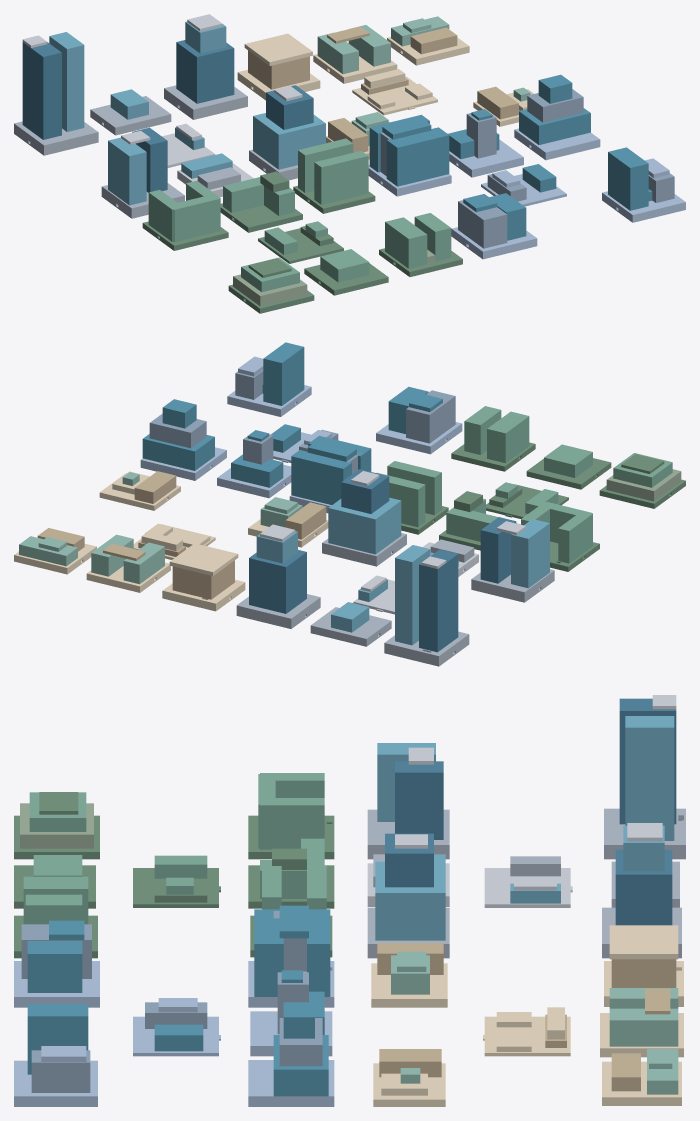
File: g4c7_review.obj
3 views of the same model, one above another, from view 1: azimuth 30°, elevation 25°; view 2: azimuth 150°, elevation 25°; view 3: azimuth 270°, elevation 25° (orthographic). The views are drawn at different scales.
Visible parts, largest first — view 1: A1_west-vertical-core, A2_setback-main-shaft, D1_north-fabrication-laboratory, A4_first-offset-terrace, C3_south-flat-row, A1_east-vertical-core, A3_street-atrium-west, D5_tall-analytical-research-lab, C1_courtyard-north-home, C6_west-garden-apartments, D4_cleanroom-deep-west-block, D3_long-waveguide-facility (+52 smaller); view 2: A1_west-vertical-core, A4_first-offset-terrace, A2_setback-main-shaft, D1_south-biotech-laboratory, A1_east-vertical-core, A3_street-atrium-west, D5_tall-analytical-research-lab, A3_vertical-office-east, C6_west-garden-apartments, D4_cleanroom-deep-west-block, D3_long-waveguide-facility, A4_upper-offset-terrace (+39 smaller); view 3: A1_east-vertical-core, A4_first-offset-terrace, A2_setback-main-shaft, A3_vertical-office-east, C1_courtyard-east-home, D4_large-glazed-science-atrium, D5_tall-analytical-research-lab, B2_museum-east-gallery, B1_acoustic-thick-roof, D1_north-fabrication-laboratory, A4_upper-offset-terrace, D3_long-waveguide-facility (+61 smaller).
Part boxes in pixels (<box>): A1_west-vertical-core: <box>22,42,61,139</box>; A2_setback-main-shaft: <box>176,40,234,103</box>; D1_north-fabrication-laboratory: <box>386,127,449,186</box>; A4_first-offset-terrace: <box>253,113,325,169</box>; C3_south-flat-row: <box>314,150,368,204</box>; A1_east-vertical-core: <box>49,32,84,131</box>; A3_street-atrium-west: <box>108,137,146,205</box>; D5_tall-analytical-research-lab: <box>608,147,648,210</box>; C1_courtyard-north-home: <box>173,194,219,242</box>; C6_west-garden-apartments: <box>385,217,427,268</box>; D4_cleanroom-deep-west-block: <box>458,200,507,248</box>; D3_long-waveguide-facility: <box>519,108,590,144</box>; A1_west-vertical-core: <box>419,549,458,652</box>; A4_first-offset-terrace: <box>328,497,401,554</box>; A2_setback-main-shaft: <box>249,550,306,613</box>; D1_south-biotech-laboratory: <box>291,450,351,504</box>; A1_east-vertical-core: <box>395,545,430,645</box>; A3_street-atrium-west: <box>511,519,549,588</box>; D5_tall-analytical-research-lab: <box>263,342,304,405</box>; A3_vertical-office-east: <box>480,517,516,583</box>; C6_west-garden-apartments: <box>487,411,529,463</box>; D4_cleanroom-deep-west-block: <box>406,390,455,443</box>; D3_long-waveguide-facility: <box>142,434,214,470</box>; A4_upper-offset-terrace: <box>341,469,389,513</box>; A1_east-vertical-core: <box>625,716,674,840</box>; A4_first-offset-terrace: <box>375,861,445,940</box>; A2_setback-main-shaft: <box>615,849,672,925</box>; A3_vertical-office-east: <box>395,761,443,839</box>; C1_courtyard-east-home: <box>260,798,324,849</box>; D4_large-glazed-science-atrium: <box>27,941,82,992</box>; D5_tall-analytical-research-lab: <box>27,1004,88,1074</box>; B2_museum-east-gallery: <box>609,1008,678,1046</box>; B1_acoustic-thick-roof: <box>609,925,678,959</box>; D1_north-fabrication-laboratory: <box>254,909,283,996</box>; A4_upper-offset-terrace: <box>385,833,433,887</box>; D3_long-waveguide-facility: <box>273,1035,328,1096</box>.
Size of the model in its own units: 344 by 74 by 344.
